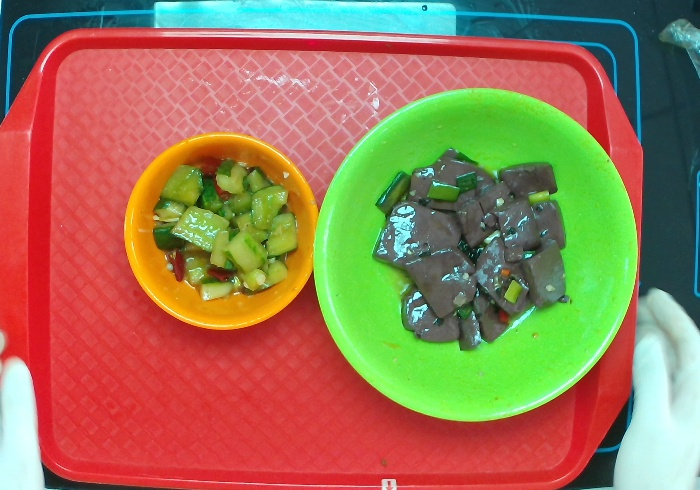YKMZ-Ju_Se_Yuan_Wan: (122, 132, 319, 332)
YKMZ-Lv_Se_Tang_Wan: (312, 85, 639, 423)
